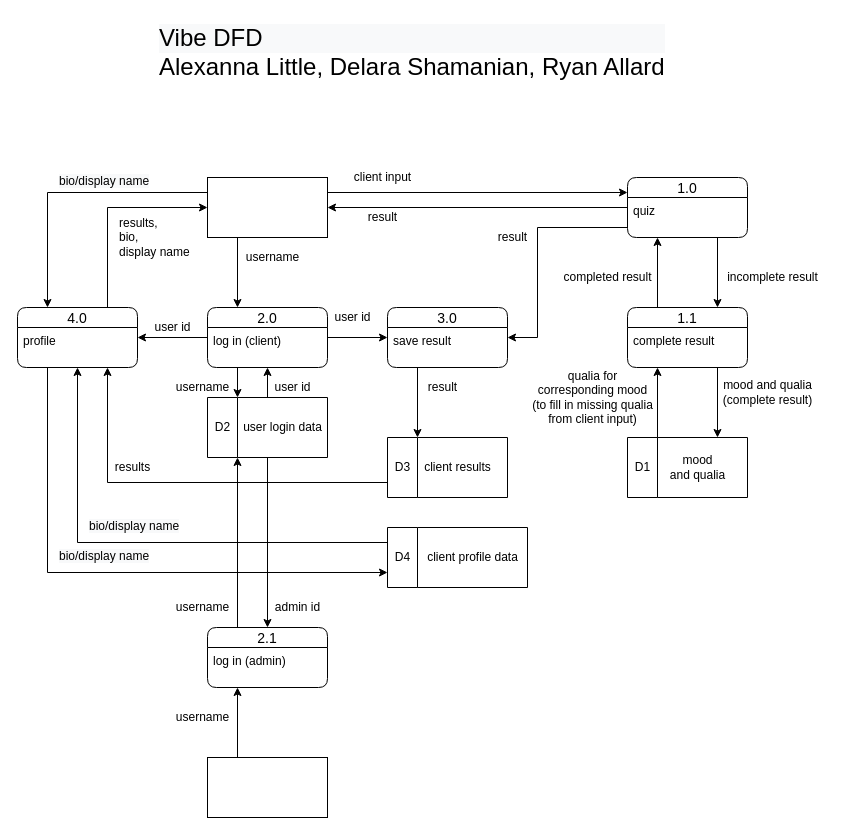
Some shapes in this 845 by 835 pixel diagram are drawn without their labels. The box of each missing label's shape, as (x1, y1, x2, y2) in pixels:
admin: (206, 756, 328, 818)
client: (206, 176, 328, 238)
